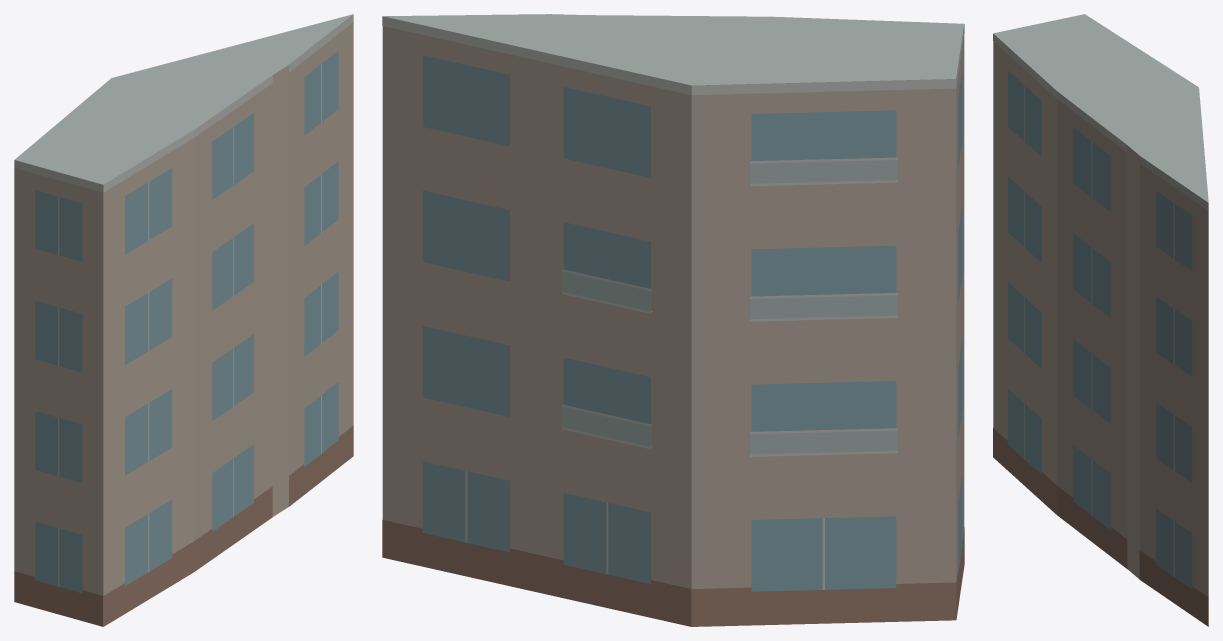
File: survey-upis-32464696.glb
The picture shows the model from 3 angles, left to right: view 1: azimuth 30°, elevation 25°; view 2: azimuth 150°, elevation 25°; view 3: azimuth 270°, elevation 25°; orthographic projection. The views are drawn at different scales.
Parts seen in each view (by area): view 1: survey-upis-32464696.tmp; view 2: survey-upis-32464696.tmp; view 3: survey-upis-32464696.tmp.
Part boxes in pixels (x1,y1,x2,y2): survey-upis-32464696.tmp: (14,14,353,626); survey-upis-32464696.tmp: (382,14,964,626); survey-upis-32464696.tmp: (993,14,1208,626).
Bounding box in the file's own units: 13.01 × 13.6 × 6.28.
